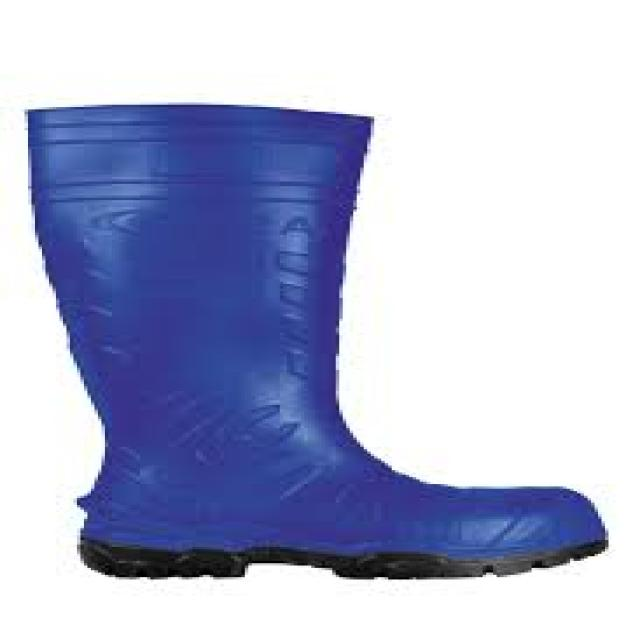shoes: (31, 105, 607, 578)
